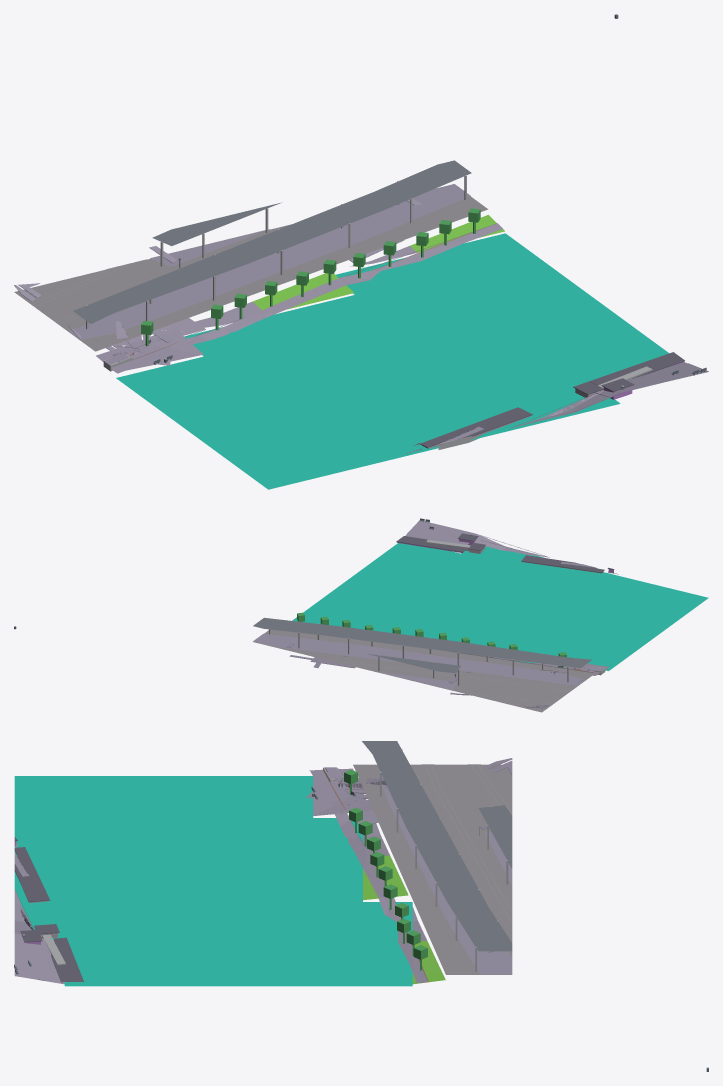
The picture shows the model from 3 angles, top to bottom: view 1: azimuth 30°, elevation 25°; view 2: azimuth 150°, elevation 25°; view 3: azimuth 270°, elevation 25°; orthographic projection. The views are drawn at different scales.
Parts seen in each view (by area): view 1: compiled-chunk; view 2: compiled-chunk; view 3: compiled-chunk.
Part boxes in pixels (box(x1,y1,x2,y2)): compiled-chunk: box(14, 14, 708, 489); compiled-chunk: box(14, 518, 708, 712); compiled-chunk: box(14, 741, 708, 1071).
Size of the model in its own units: 192 by 14.78 by 168.
